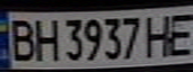3: (60, 15, 84, 62), (100, 15, 124, 61)
7: (121, 12, 145, 60)
9: (81, 15, 106, 62)
B: (3, 16, 39, 62)
E: (163, 8, 193, 57)
H: (142, 11, 175, 58), (30, 15, 60, 63)
